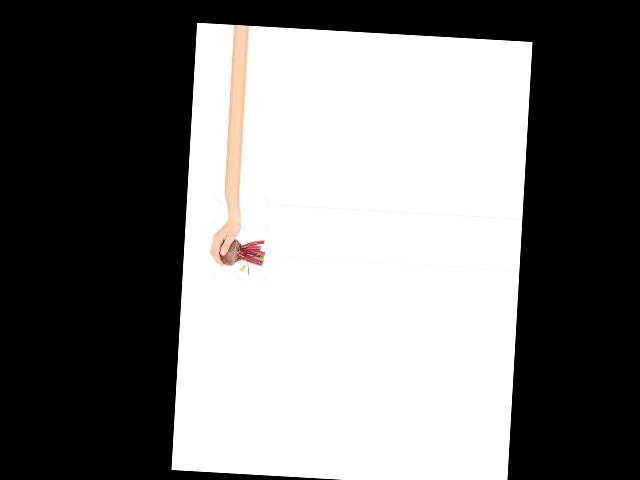beet: (217, 238, 265, 276)
